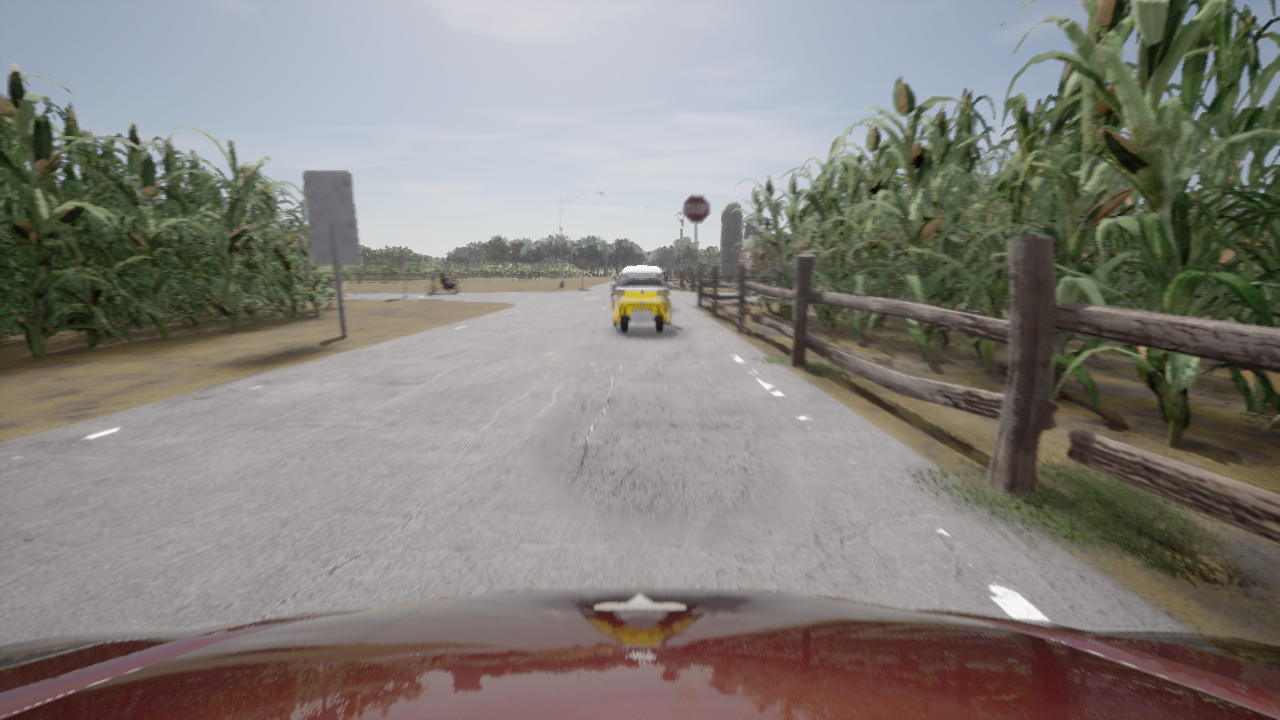cyclist: (0, 588, 1279, 719), (610, 266, 673, 332), (254, 270, 335, 295), (611, 268, 666, 301), (425, 275, 458, 293)
